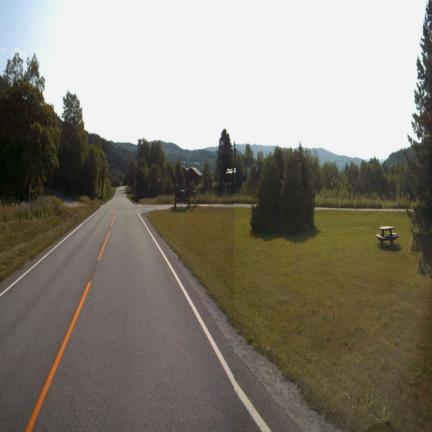Road: (0, 188, 297, 430)
